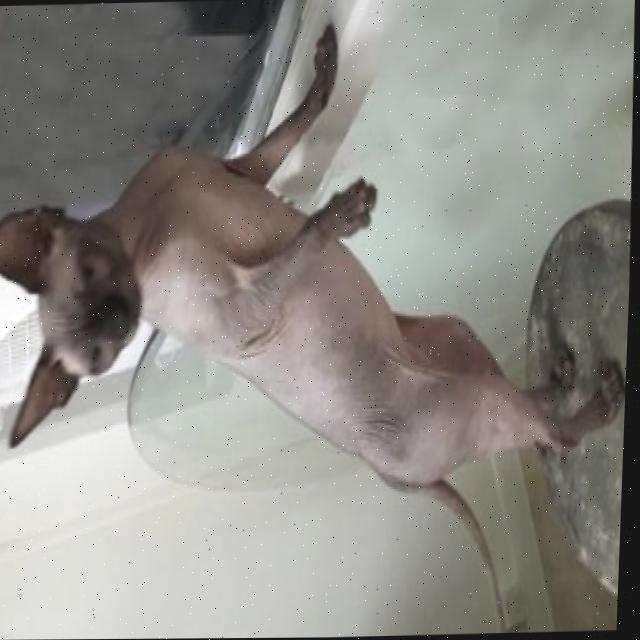Sphynx: (0, 12, 640, 640)
